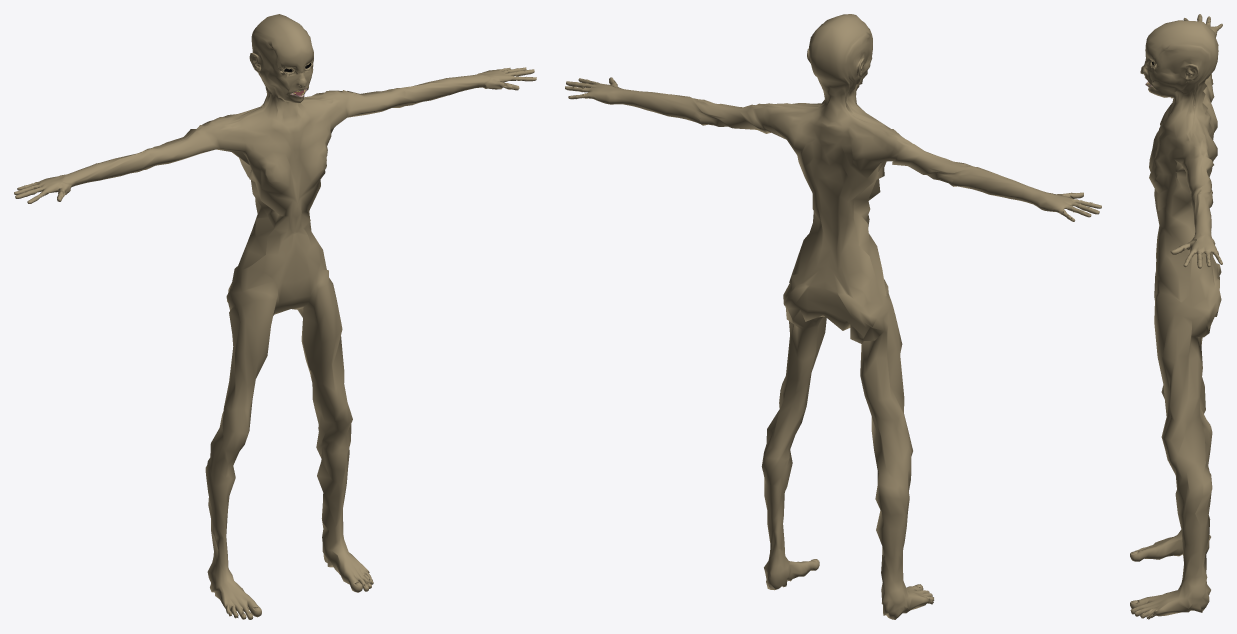
Rendered from corpse.fbx.
3 views of the same model, side by side, from view 1: azimuth 30°, elevation 25°; view 2: azimuth 150°, elevation 25°; view 3: azimuth 270°, elevation 25° (orthographic). The views are drawn at different scales.
Visible parts, largest first — view 1: human; view 2: human; view 3: human.
Boxes of the visible parts, x1,y1,x2,y2 form: human: (14,14,536,619); human: (565,14,1101,619); human: (1130,14,1222,619).
Bounding box in the file's own units: 507 × 530 × 78.95.
